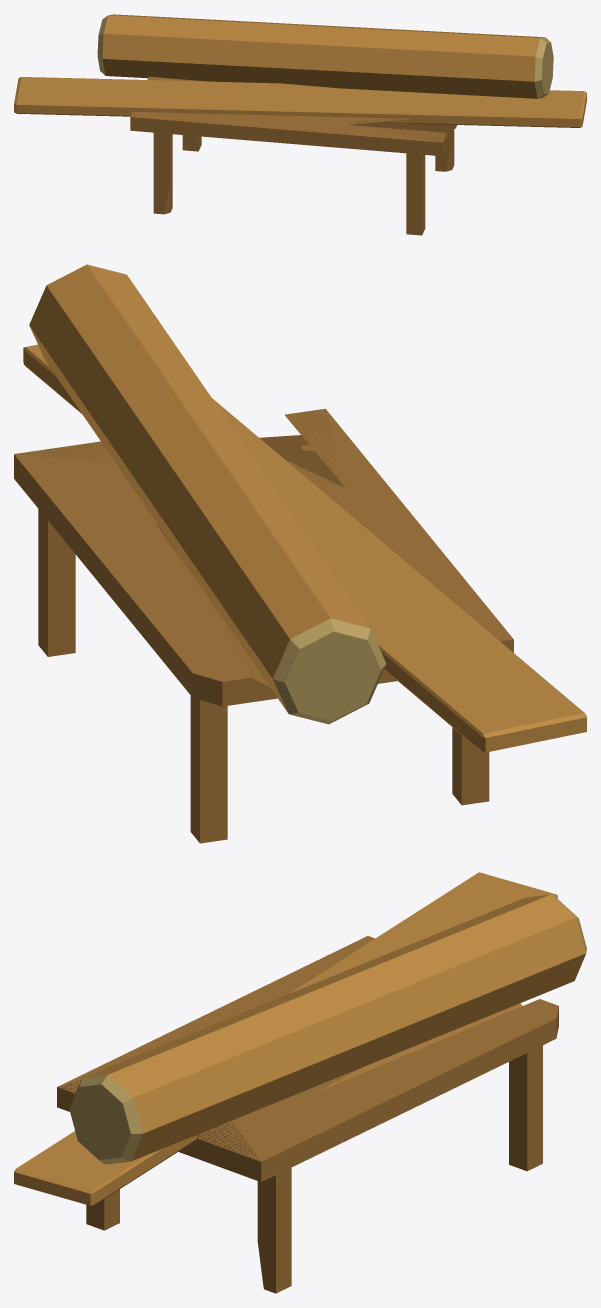
Rendered from Wood1.fbx.
3 renders of one model, top to bottom at view 1: azimuth 30°, elevation 25°; view 2: azimuth 150°, elevation 25°; view 3: azimuth 270°, elevation 25°, orthographic. The views are drawn at different scales.
Parts seen in each view (by area): view 1: Wood1; view 2: Wood1; view 3: Wood1.
Boxes of the visible parts, <box> form: Wood1: <box>14,14,586,235</box>; Wood1: <box>14,264,586,843</box>; Wood1: <box>14,872,586,1293</box>.
Size of the model in its own units: 171 by 59.88 by 129.
